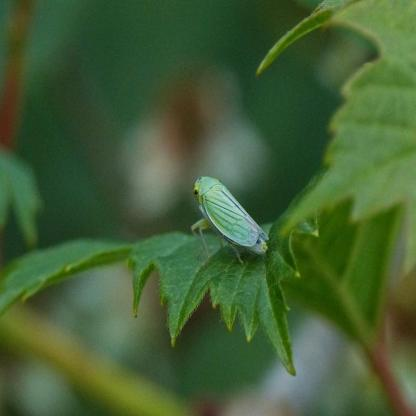Green-Leafhopper: (185, 174, 268, 257)
